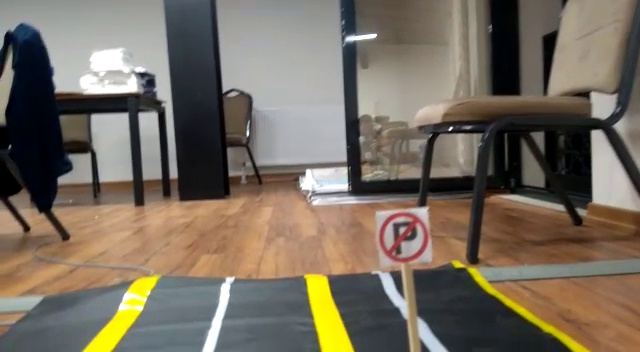park_yapilmaz: (375, 209, 431, 264)
